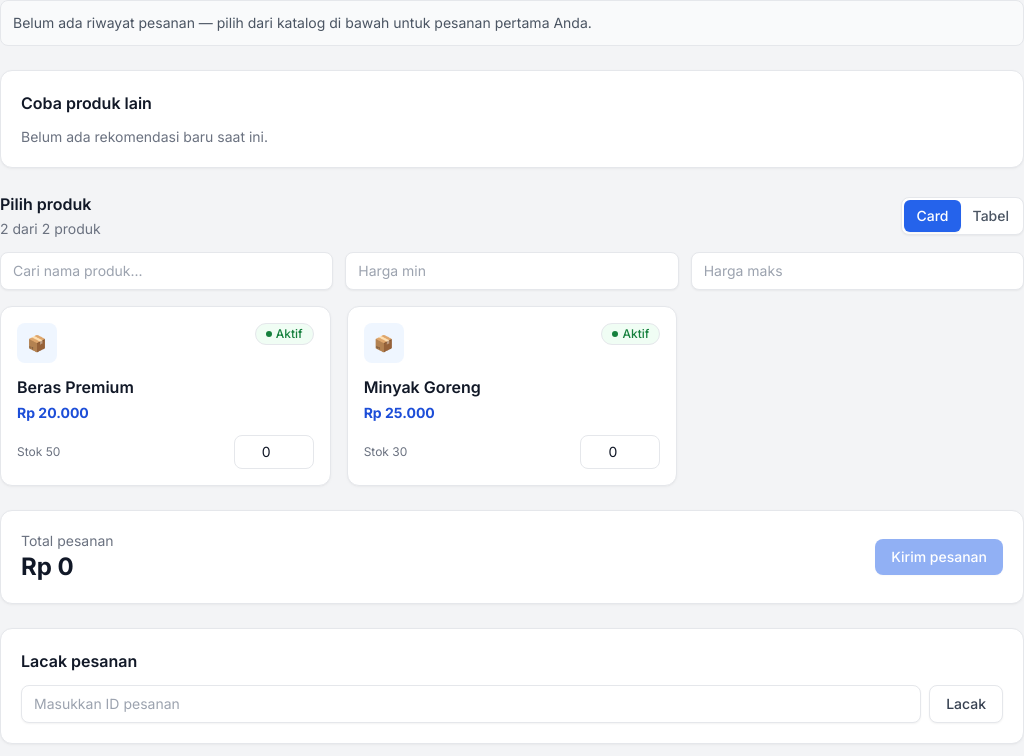
OrderForm — cache invalidation on outlet order submission › online submit failure does NOT invalidate cache
The width and height of the screenshot is (1024, 756).
Step 1. Replace the text in the number field named "Jumlah Beras Premium" with "1" → (274, 452), box [234,435,314,469]
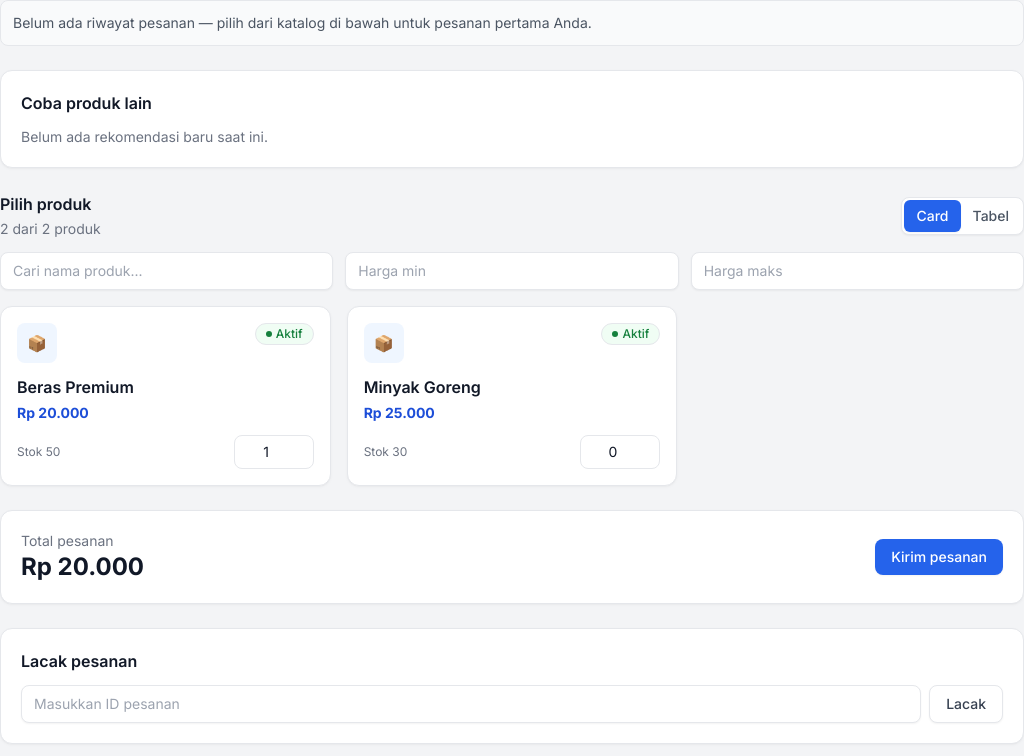
Step 2. Click the button "Kirim pesanan" → (939, 557), box [875,539,1003,575]
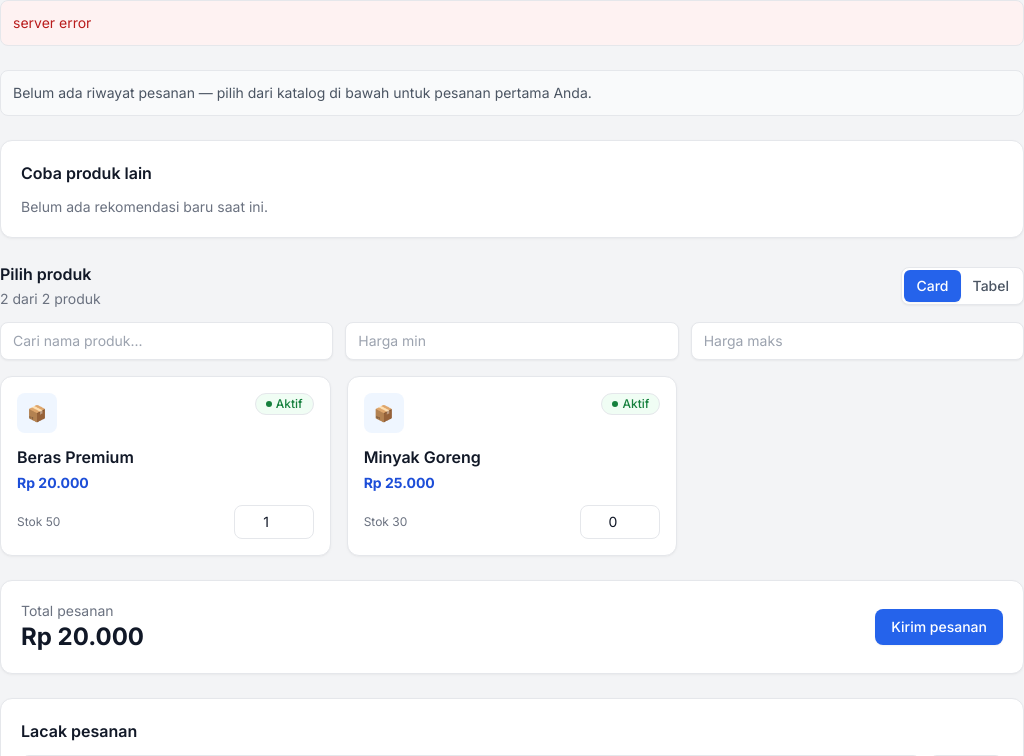
Result: the text "server error" is shown at [0,0,1023,46]
